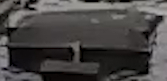bag: (6, 3, 164, 69)
